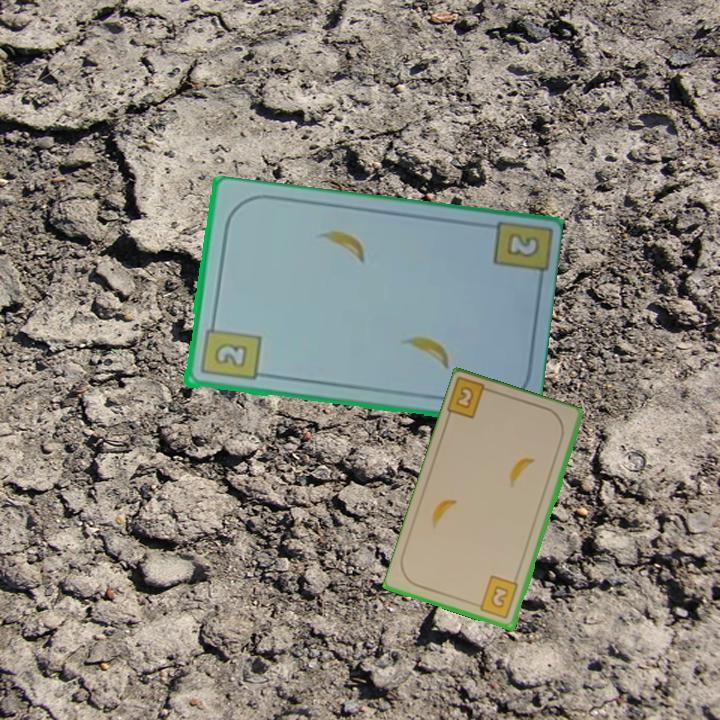2b: (197, 317, 263, 384), (471, 573, 521, 622), (445, 376, 498, 422), (502, 229, 543, 261)
